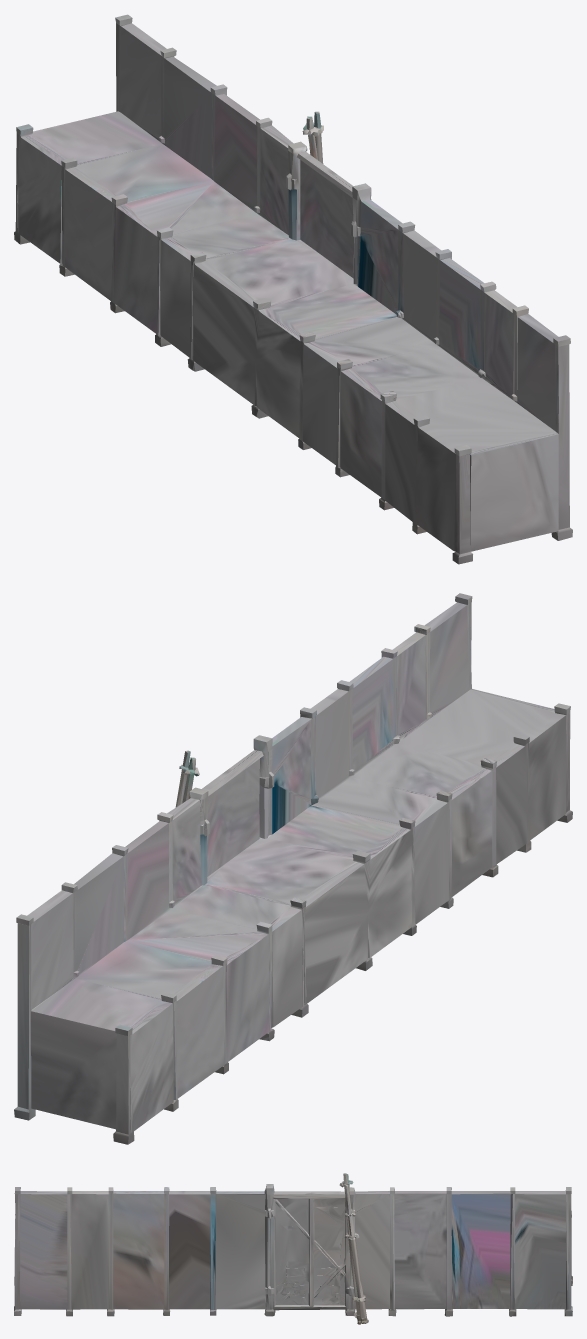
Rendered from k10_far.glb.
The picture shows the model from 3 angles, top to bottom: view 1: azimuth 30°, elevation 25°; view 2: azimuth 150°, elevation 25°; view 3: azimuth 270°, elevation 25°; orthographic projection. The views are drawn at different scales.
Visible parts, largest first — view 1: k10_far; view 2: k10_far; view 3: k10_far.
Part boxes in pixels (x1,y1,x2,y2): k10_far: [14, 14, 572, 564]; k10_far: [14, 593, 572, 1144]; k10_far: [14, 1173, 572, 1324].
Bounding box in the file's own units: 4.83 × 7 × 24.35.
Materials: 1 (1 with a texture image).
